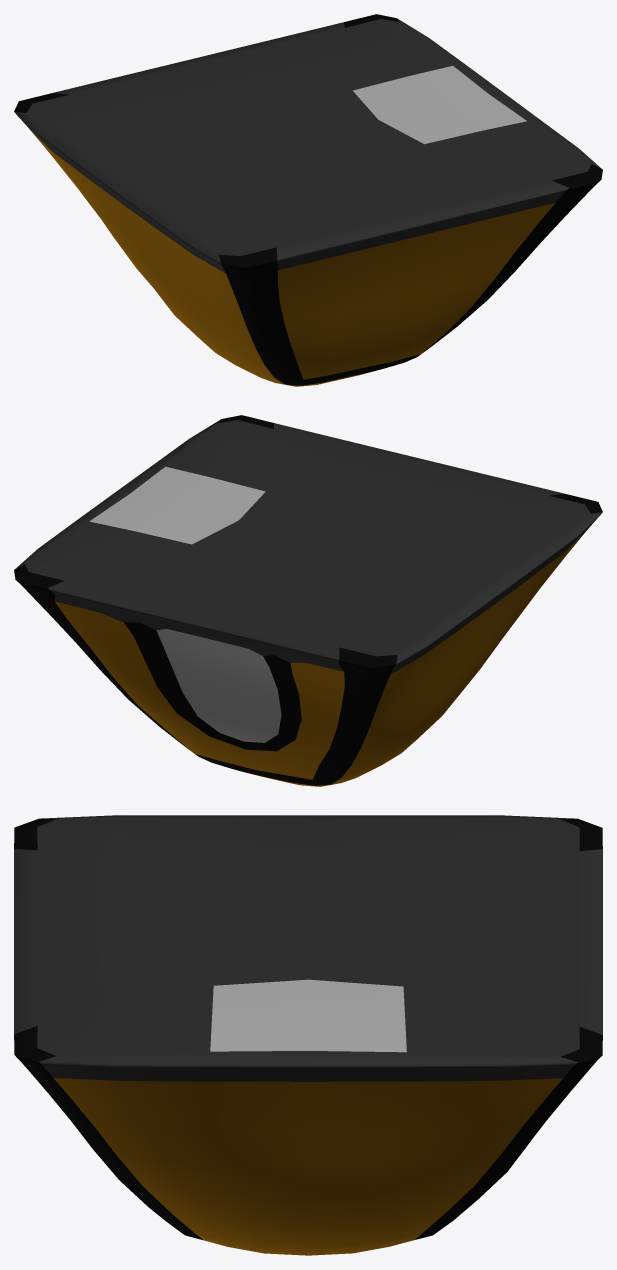
File: Tent2O.fbx
3 renders of one model, top to bottom at view 1: azimuth 30°, elevation 25°; view 2: azimuth 150°, elevation 25°; view 3: azimuth 270°, elevation 25°, orthographic. The views are drawn at different scales.
Visible parts, largest first — view 1: pCube1; view 2: pCube1; view 3: pCube1.
Part boxes in pixels (x1,y1,x2,y2): pCube1: [14, 14, 602, 386]; pCube1: [14, 415, 602, 786]; pCube1: [14, 815, 602, 1255].
Size of the model in its own units: 2.03 by 1.15 by 2.02.
